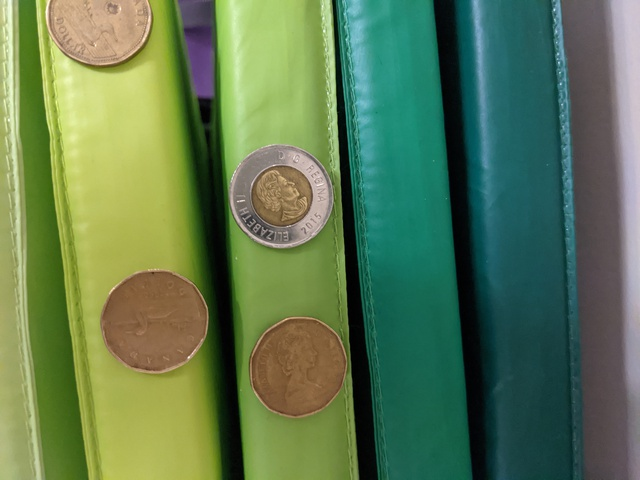loonie: (103, 266, 224, 377), (239, 306, 349, 419), (34, 5, 161, 72)
twonie: (225, 137, 334, 251)
